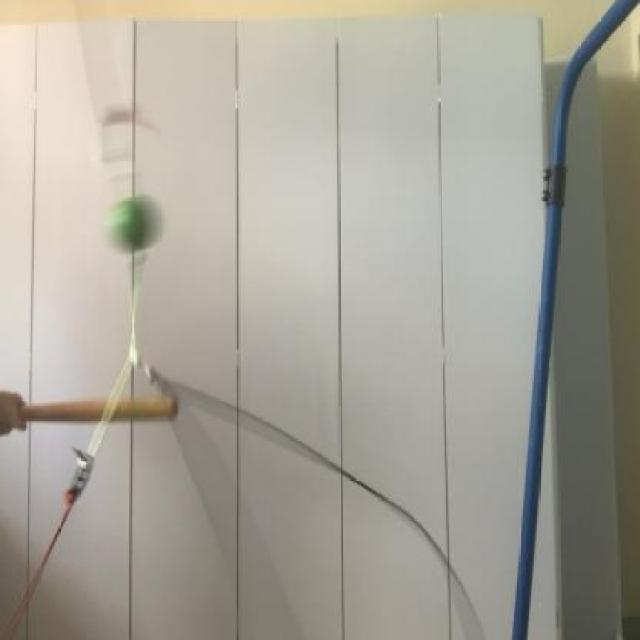baseball: (102, 187, 166, 264)
